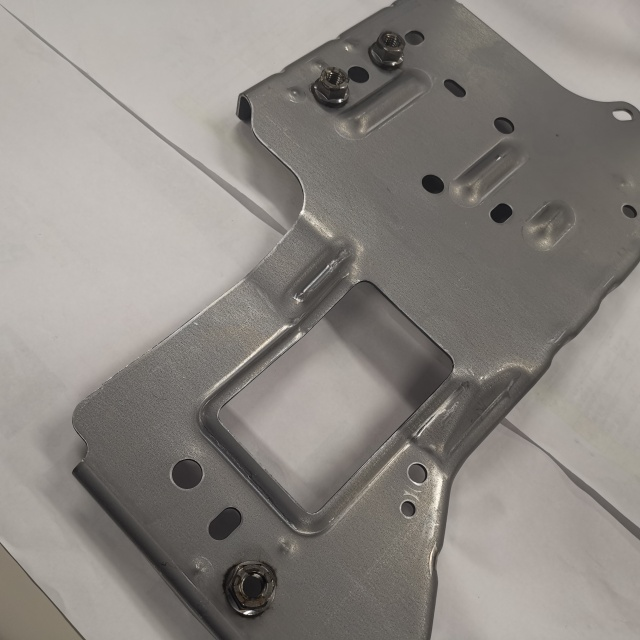dog: (219, 556, 280, 620), (309, 66, 354, 110), (367, 30, 409, 73)
